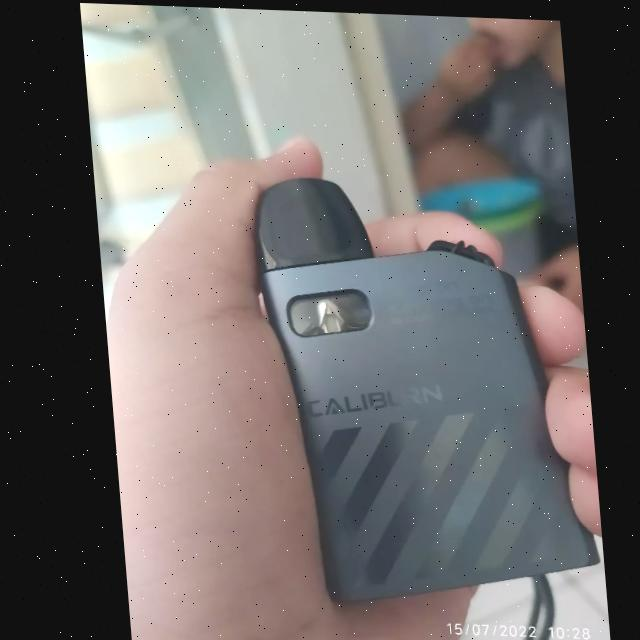vape: (244, 171, 598, 606)
